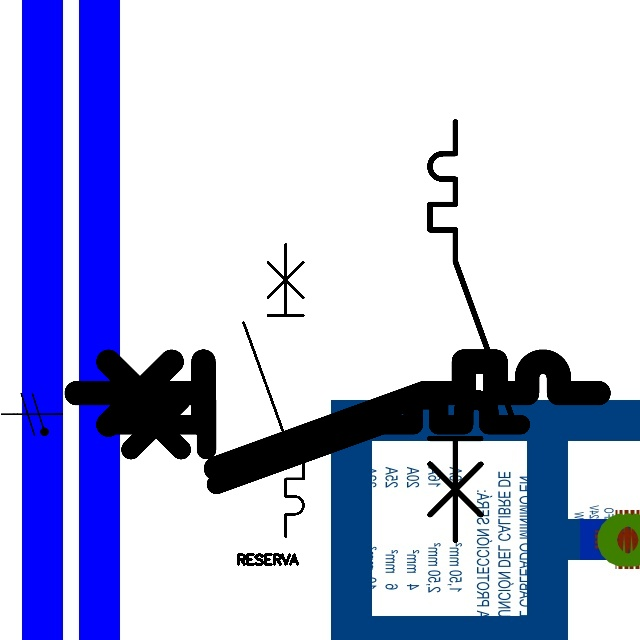interruptor_termomagnetico: (63, 348, 612, 482), (419, 111, 526, 551), (95, 389, 531, 495), (236, 237, 311, 544)
